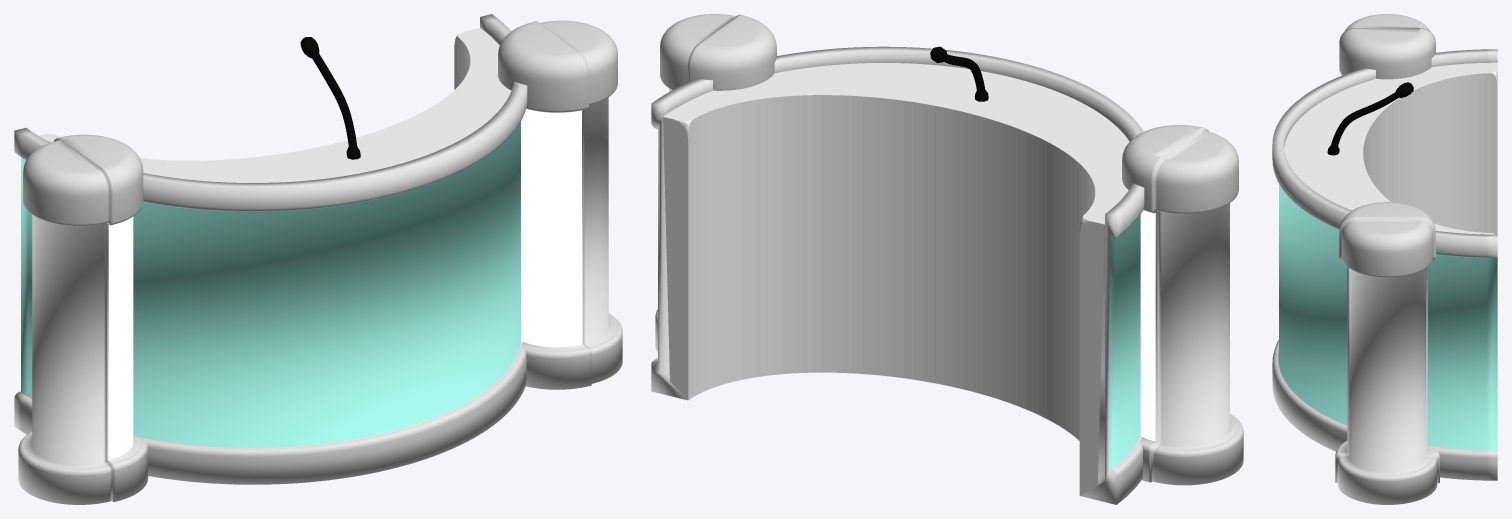
The model's file is choicer_voicer_podium_contestant2.glb.
3 views of the same model, side by side, from view 1: azimuth 30°, elevation 25°; view 2: azimuth 150°, elevation 25°; view 3: azimuth 270°, elevation 25° (orthographic). The views are drawn at different scales.
Parts seen in each view (by area): view 1: PodiumSmooth, PillarLeftN, PillarRightN, PodiumFlat, Mic; view 2: PodiumFlat, PillarLeftN, PodiumSmooth, PillarRightN, Mic; view 3: PodiumSmooth, PodiumFlat, PillarRightN, PillarLeftN, Mic.
Part boxes in pixels (x1,y1,x2,y2): PodiumSmooth: (14, 14, 527, 484); PillarLeftN: (18, 134, 148, 504); PillarRightN: (498, 20, 622, 389); PodiumFlat: (38, 27, 511, 182); Mic: (300, 37, 360, 159); PodiumFlat: (663, 63, 1129, 498); PillarLeftN: (1122, 125, 1243, 485); PodiumSmooth: (651, 46, 1144, 504); PillarRightN: (655, 14, 776, 352); Mic: (930, 46, 988, 101); PodiumSmooth: (1272, 49, 1497, 480); PodiumFlat: (1284, 62, 1497, 234); PillarRightN: (1335, 202, 1439, 504); PillarLeftN: (1339, 14, 1435, 79); Mic: (1327, 82, 1413, 155).
Size of the model in its own units: 2.46 by 1.5 by 1.
